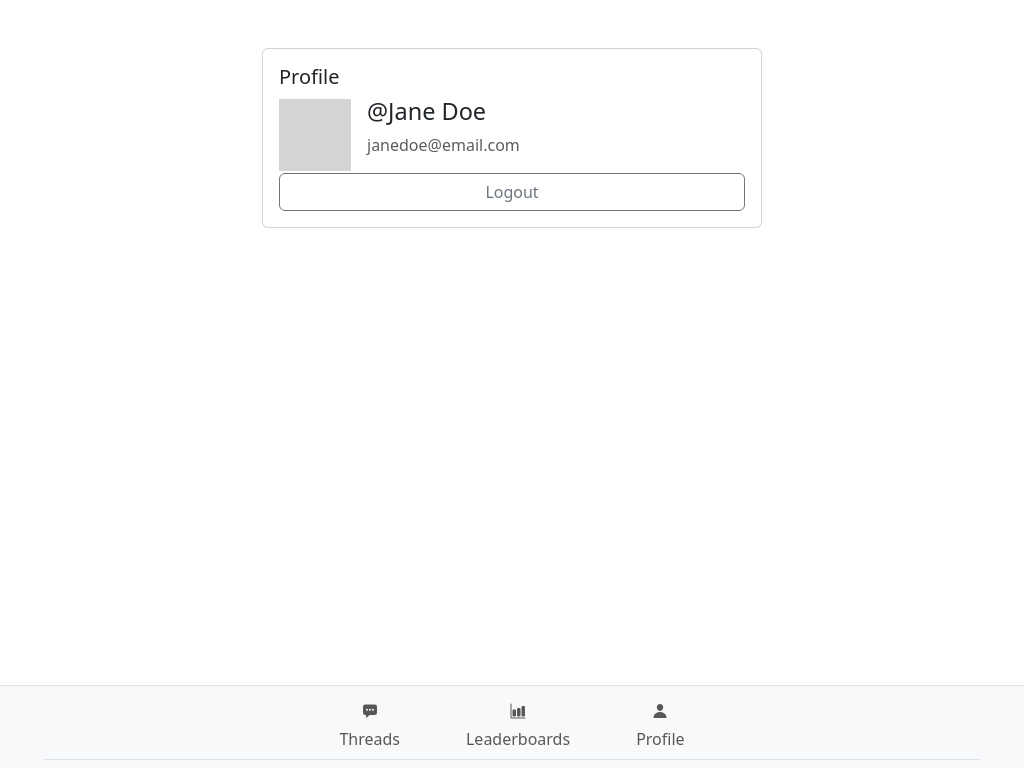
Scenario: Logout spec › should display login page when logout button is clicked
This screenshot has width=1024, height=768.
Click the button "Logout": (512, 192) [279,173,745,211]
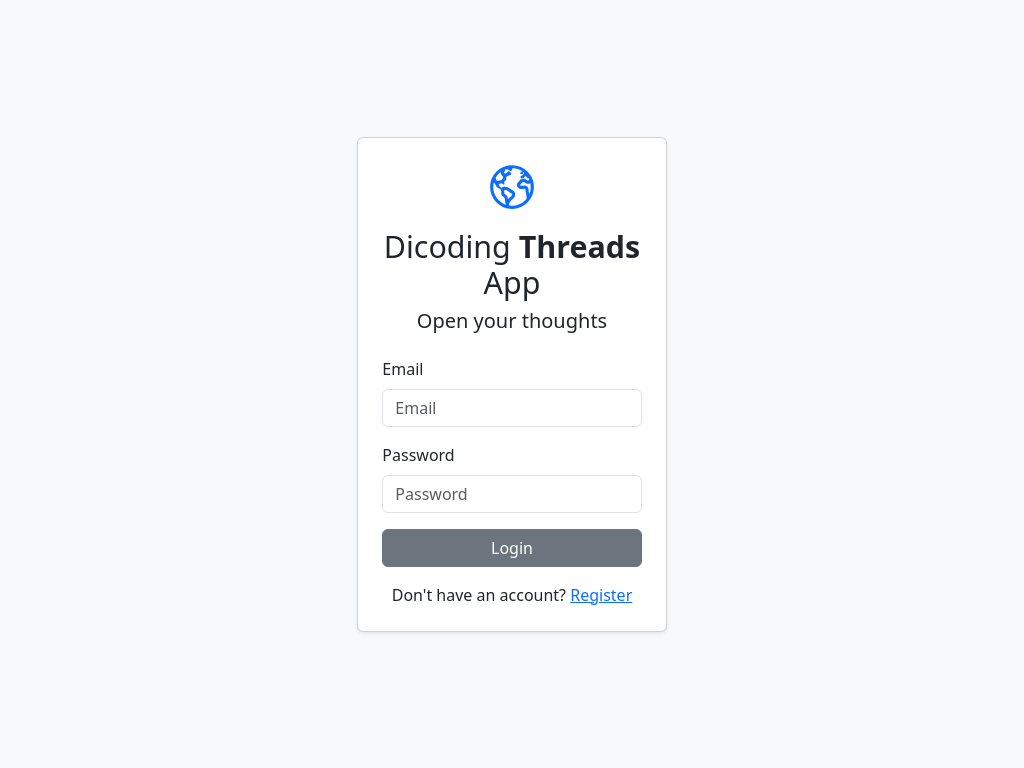
Expected: the field with placeholder "Email" is shown, [382,388,642,426]
Expected: the password field with placeholder "Password" is shown, [382,474,642,512]
Expected: the button "Login" is shown, [382,528,642,566]
